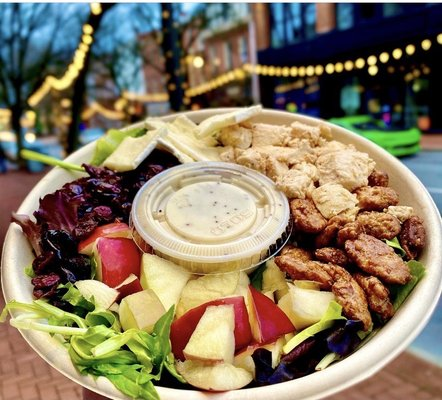steak: (183, 302, 236, 364)
sushi: (129, 162, 294, 274)
